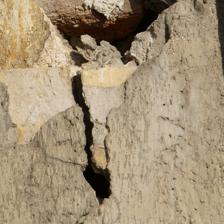Crack: (33, 33, 98, 174)
